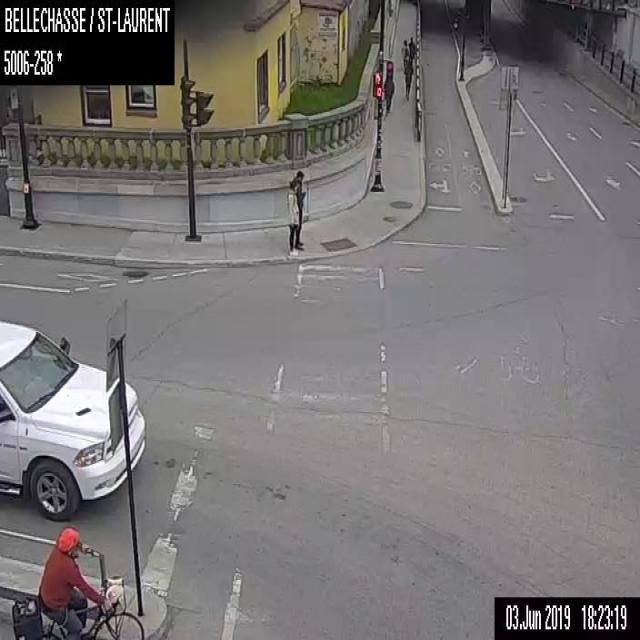cyclist: (10, 526, 145, 639)
pedestrian: (290, 170, 305, 250), (286, 180, 300, 254), (382, 72, 393, 112), (403, 60, 413, 100), (407, 35, 415, 66), (401, 38, 408, 68)
vehicle: (0, 317, 145, 520)
